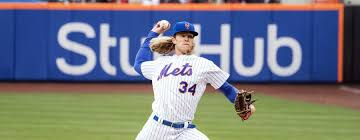baseball: (158, 19, 172, 31)
baseball player: (131, 18, 258, 140)
